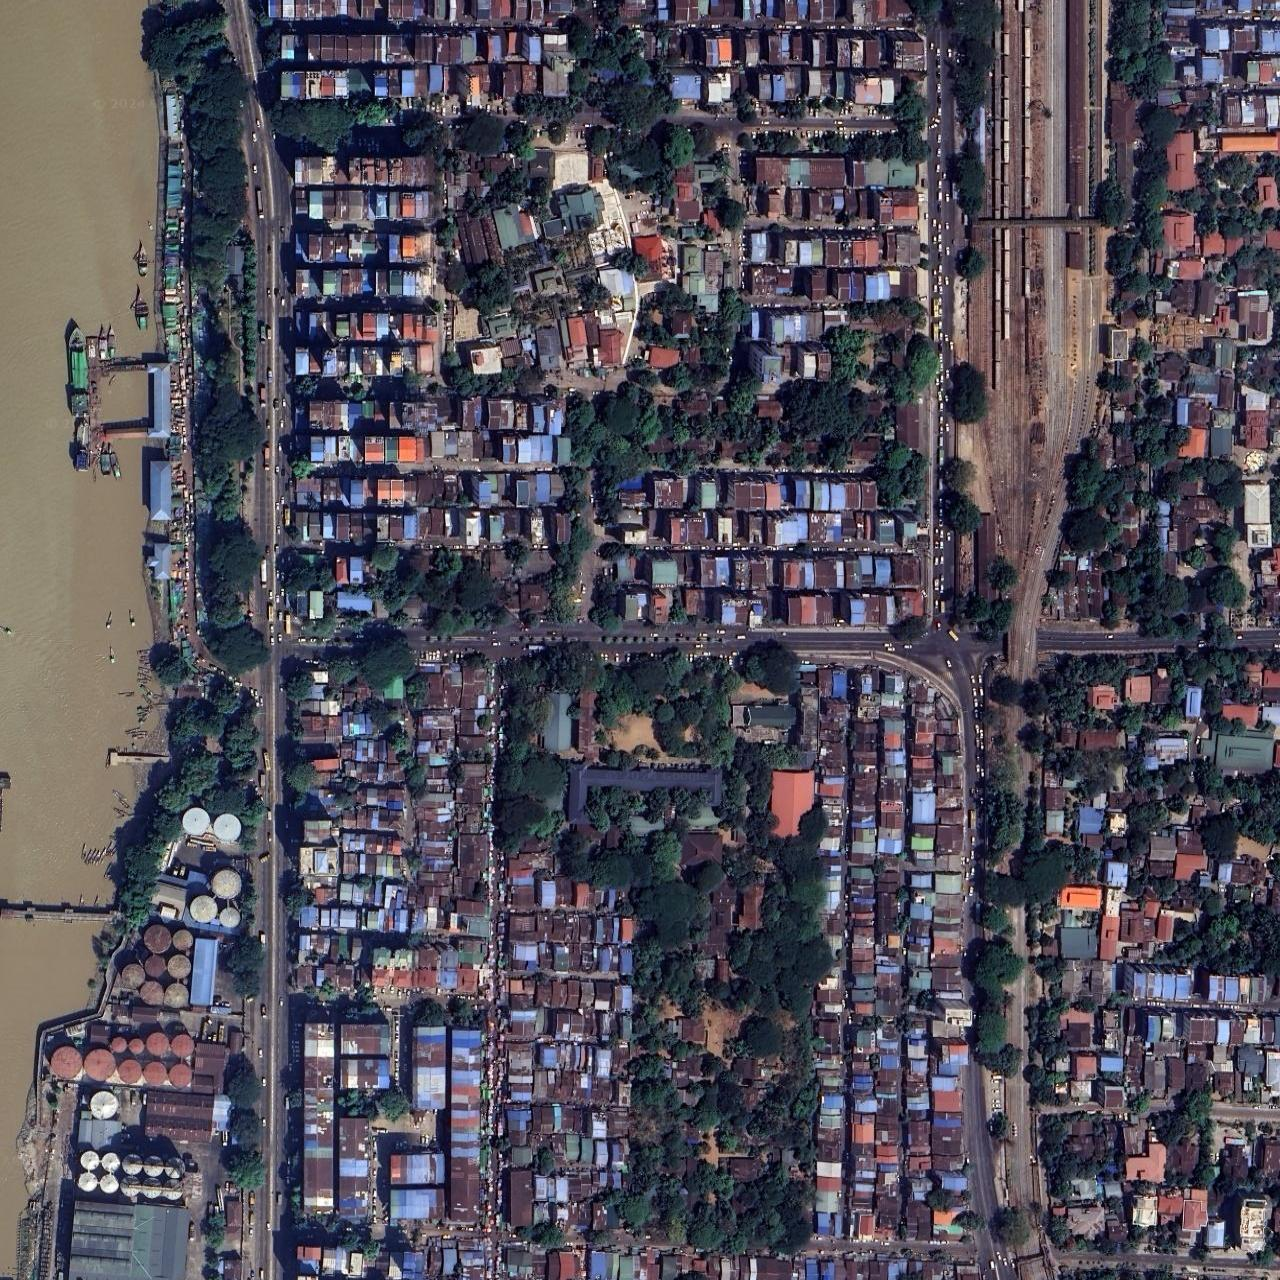greenery: (392, 294, 949, 631), (105, 0, 264, 937), (612, 840, 822, 1254), (1028, 401, 1251, 635), (972, 687, 1041, 1088), (1099, 0, 1176, 348), (566, 1, 676, 199)
house: (281, 649, 982, 1280), (252, 0, 928, 625), (1049, 668, 1280, 1280), (48, 812, 281, 1280), (1108, 0, 1280, 633), (601, 474, 928, 619)
water: (0, 0, 159, 1280)
